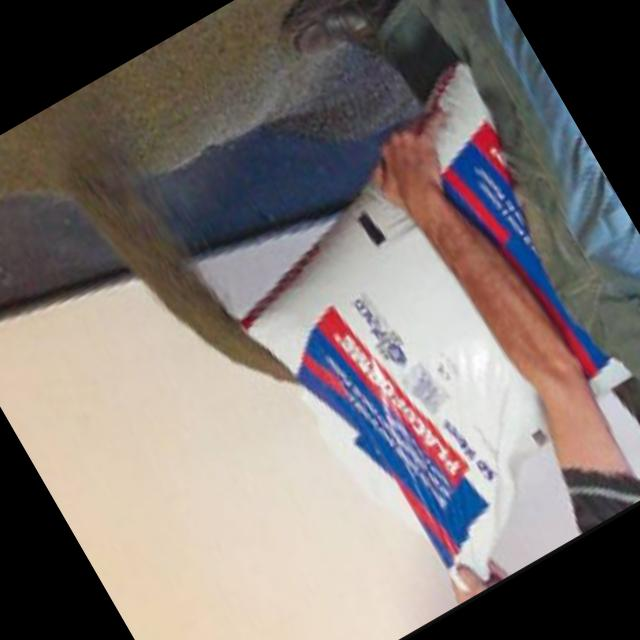KantongSemen: (182, 56, 640, 613)
